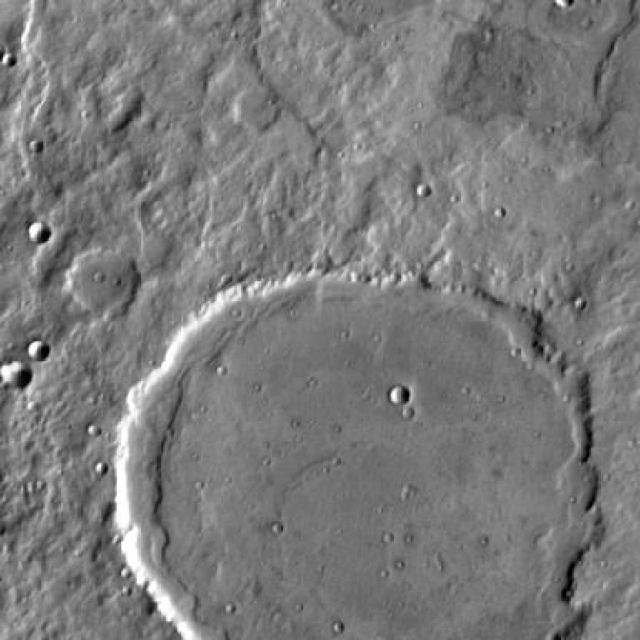crater: (110, 261, 609, 640), (71, 250, 138, 316), (227, 88, 271, 130), (0, 360, 28, 389), (30, 338, 53, 360), (30, 222, 53, 243), (389, 386, 411, 406)
